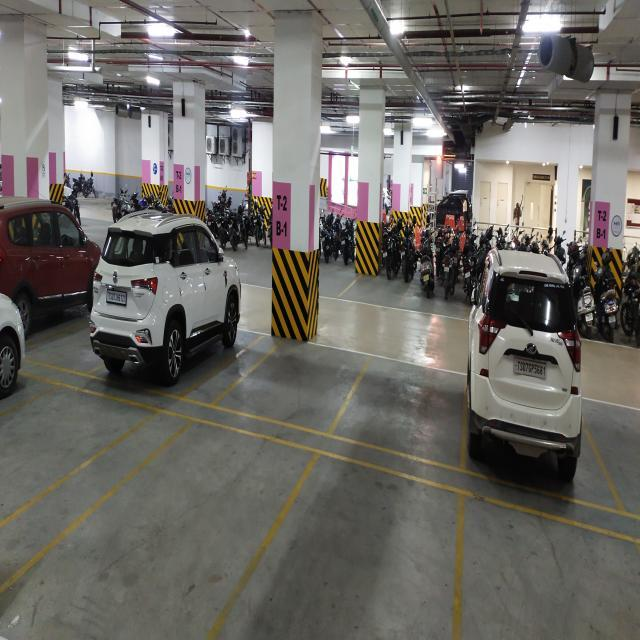car: (99, 247, 208, 383), (475, 356, 590, 476)
free: (292, 468, 458, 630), (108, 464, 247, 620), (474, 482, 608, 640), (362, 363, 464, 458), (5, 404, 92, 490), (256, 345, 346, 427)
